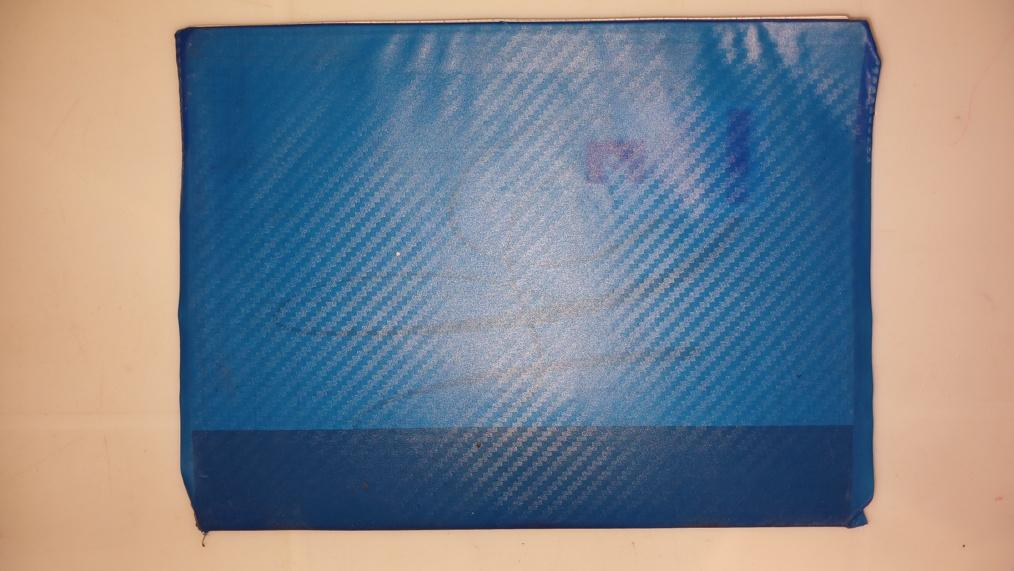notebook: (178, 17, 875, 528)
